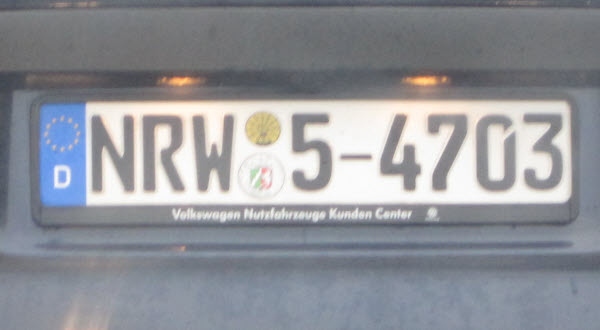license_plate: (36, 98, 572, 208)
